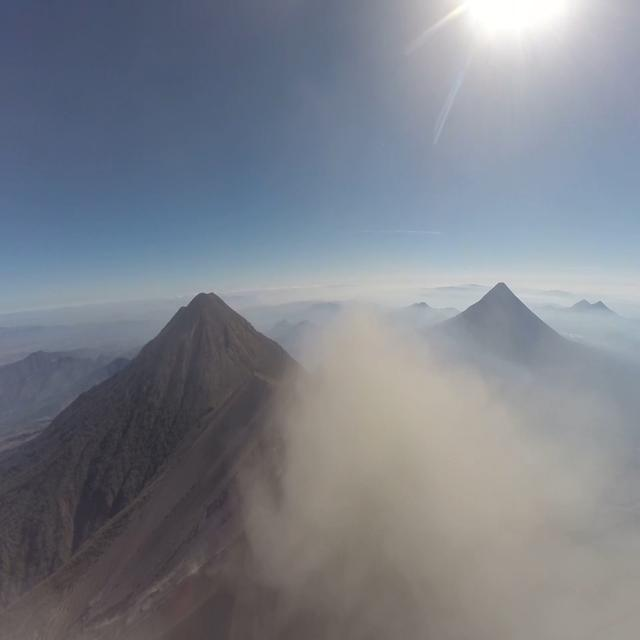Plume: (222, 286, 635, 640)
